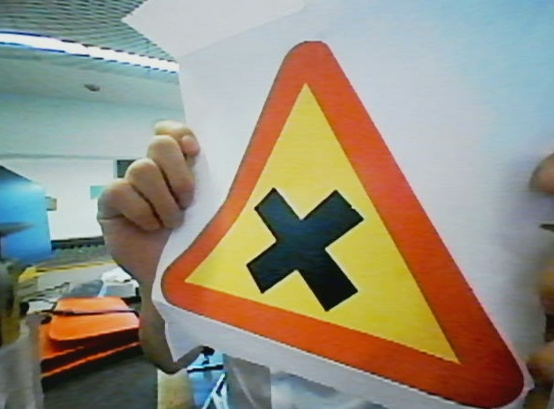junction: (181, 50, 547, 409)
